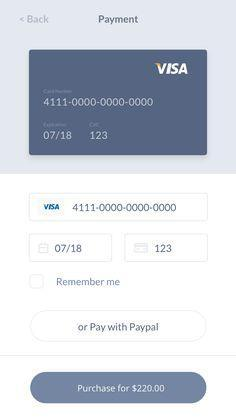button: (30, 311, 210, 346), (29, 372, 208, 404)
checkbox: (31, 275, 46, 290)
input: (31, 194, 208, 223), (125, 234, 210, 263), (30, 236, 114, 264)
label: (55, 275, 123, 291)
